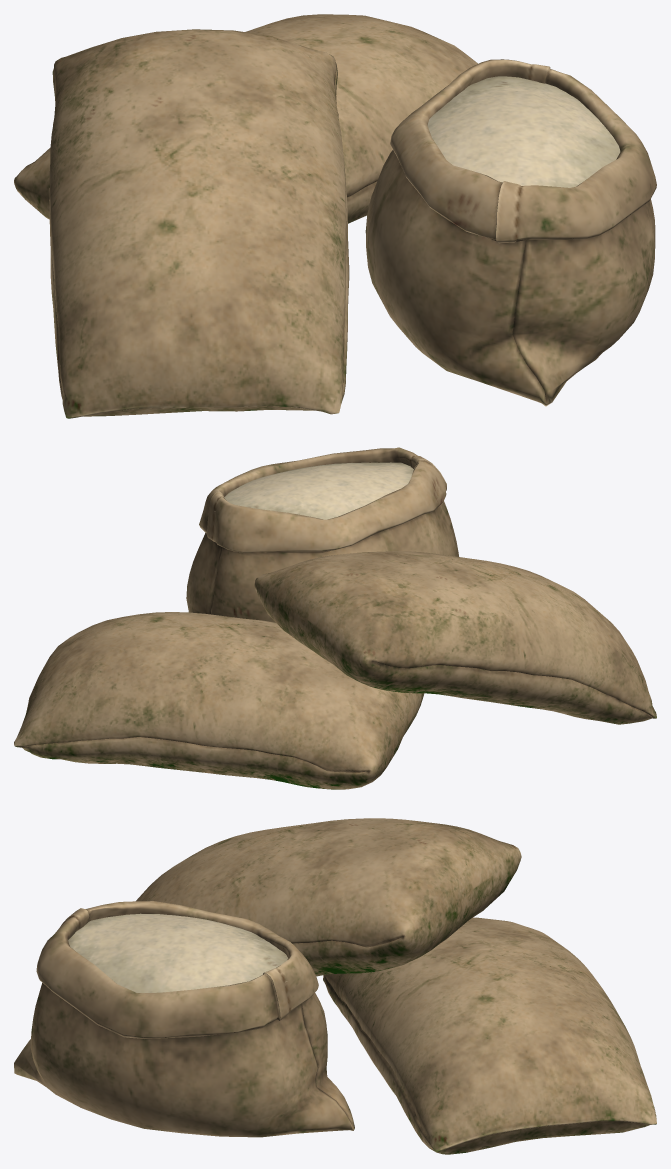
File: bag_rice.glb
The picture shows the model from 3 angles, top to bottom: view 1: azimuth 30°, elevation 25°; view 2: azimuth 150°, elevation 25°; view 3: azimuth 270°, elevation 25°; orthographic projection. The views are drawn at different scales.
Visible parts, largest first — view 1: obag_low1_bag_0; view 2: obag_low1_bag_0; view 3: obag_low1_bag_0.
Part boxes in pixels (x1,y1,x2,y2): obag_low1_bag_0: [14, 14, 656, 418]; obag_low1_bag_0: [14, 447, 656, 789]; obag_low1_bag_0: [14, 818, 656, 1154].
Bounding box in the file's own units: 1.26 × 0.4399 × 1.34.
Materials: 1 (1 with a texture image).
